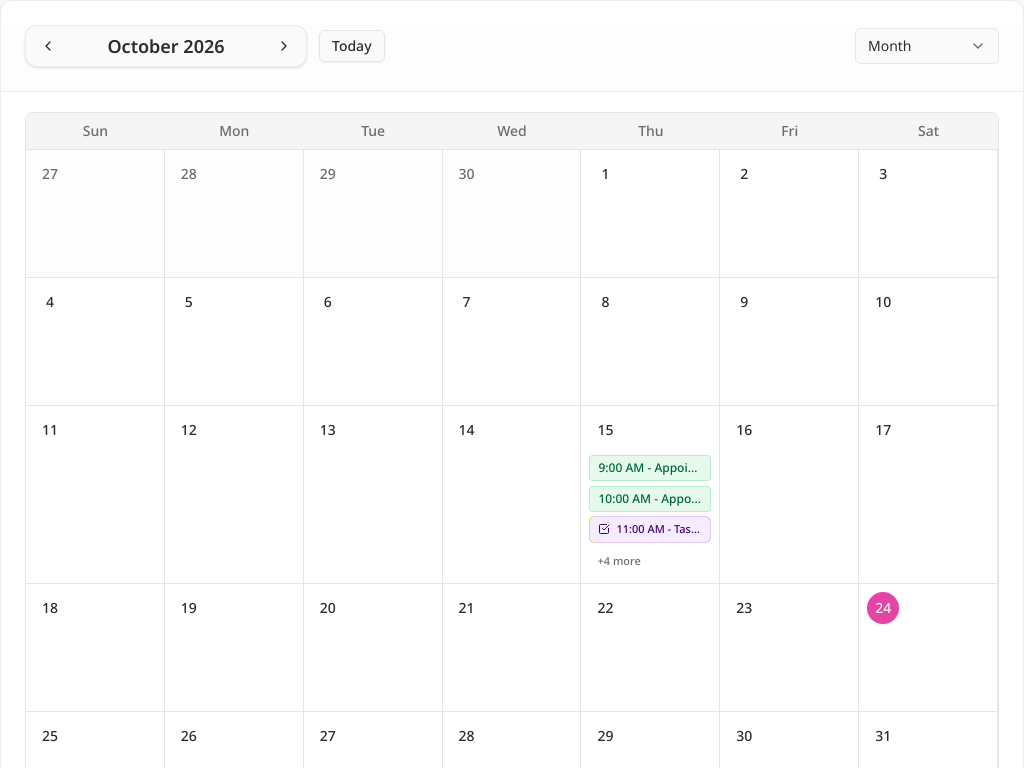
UnifiedCalendar drag-to-reschedule › keeps all month-view items accessible from the overflow action
The width and height of the screenshot is (1024, 768).
Expected: the text "Task 5" is not shown
Click the button with aria-label "+4 more items".
click(650, 561)  # box [589, 547, 711, 575]
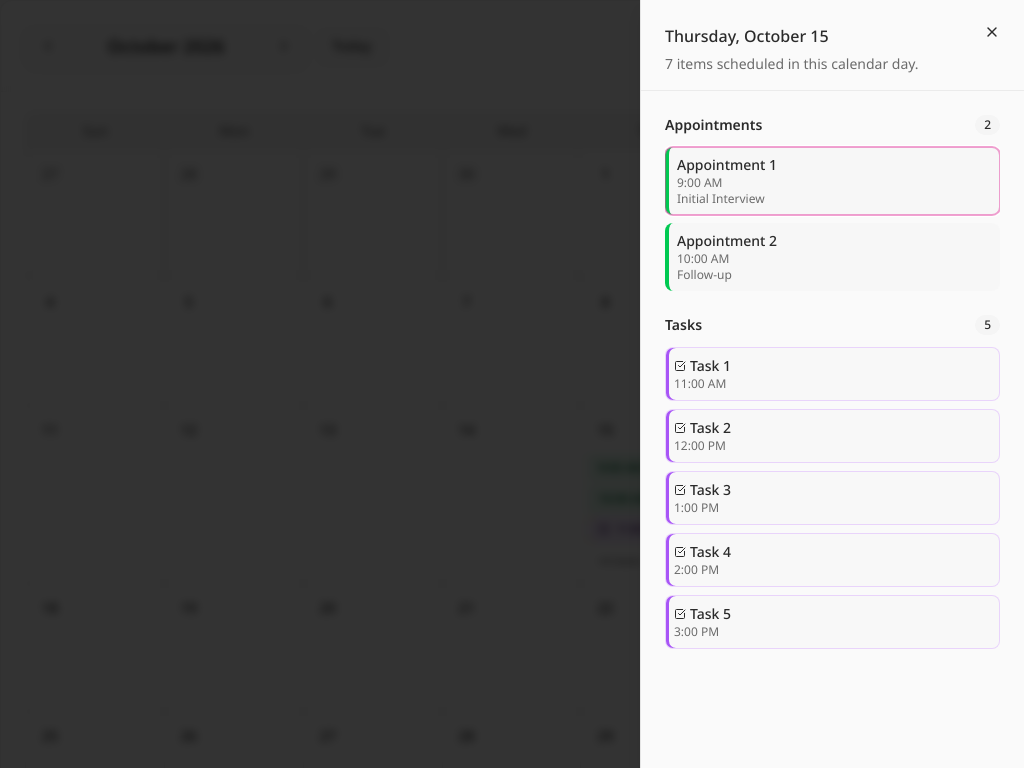
Now the text "Task 5" is shown, box [674, 604, 731, 623]
Now the text "Appointment 2" is shown, box [677, 231, 777, 250]
